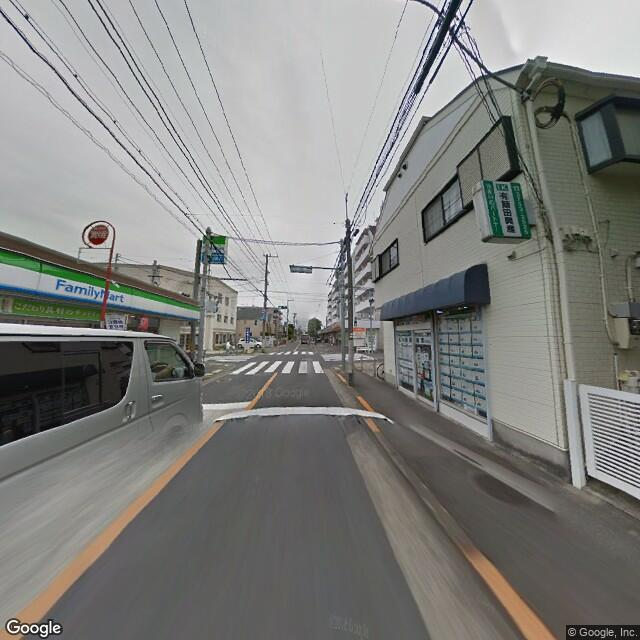family_mart: (2, 247, 202, 327), (208, 231, 228, 259)
